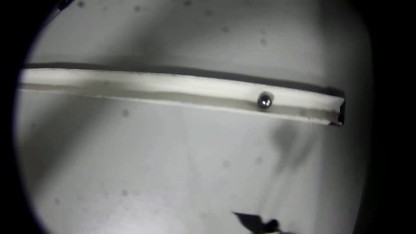gangzhu: (255, 90, 274, 111)
